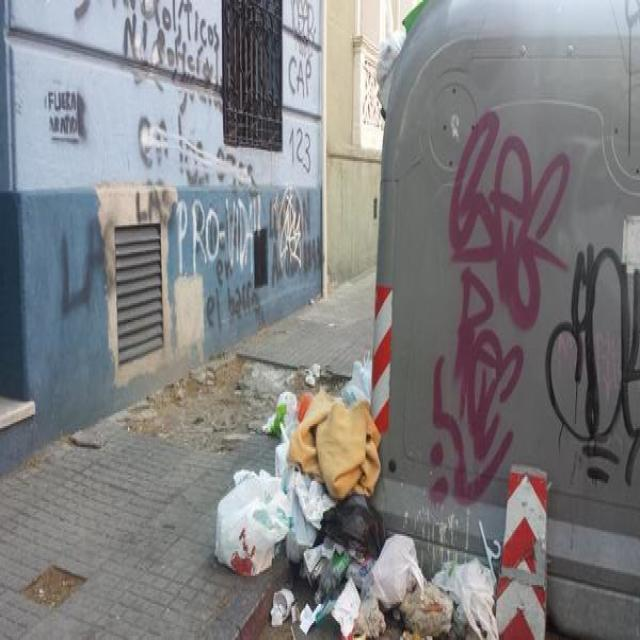garbage: (270, 362, 379, 638), (362, 509, 488, 638), (271, 566, 383, 638), (218, 454, 280, 584)
